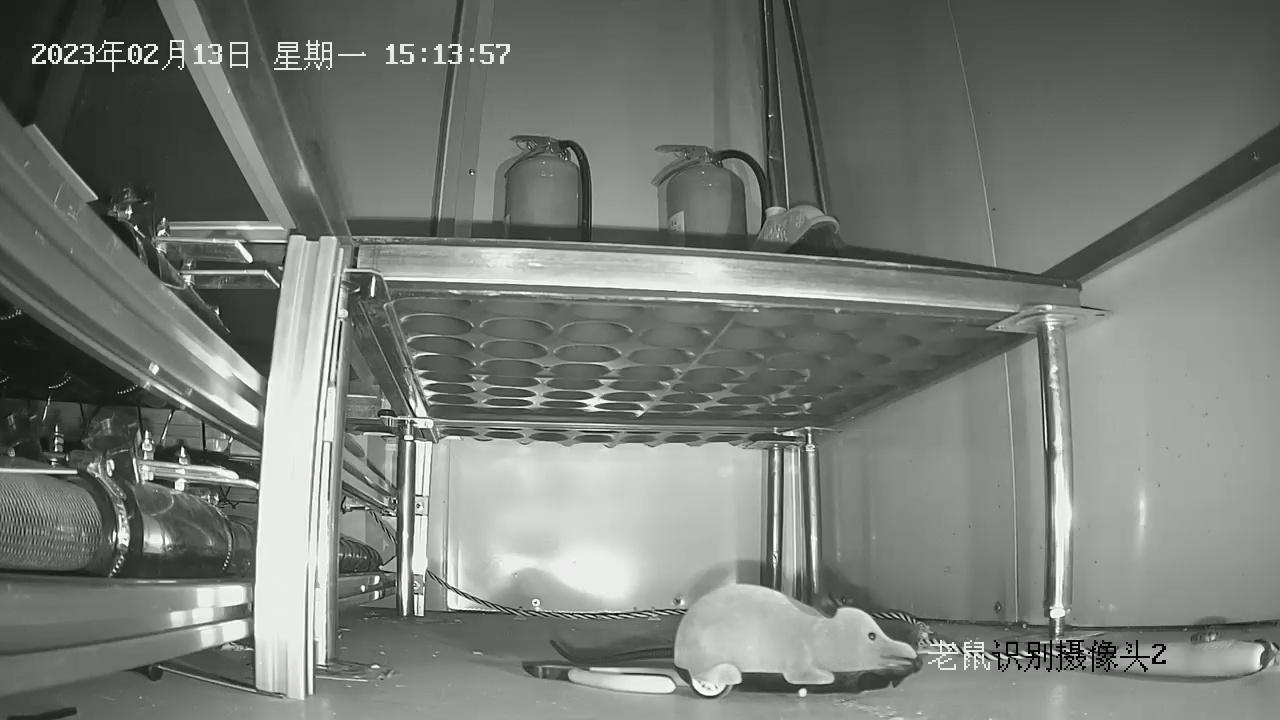rat: (550, 583, 922, 696)
